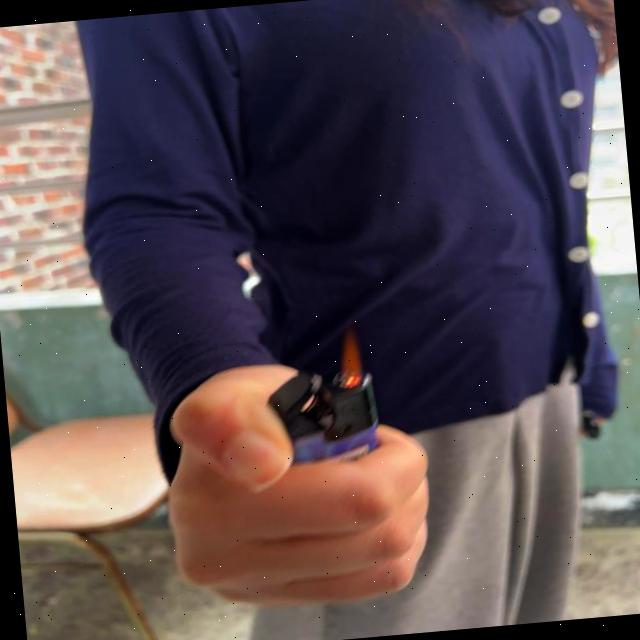fire: (334, 324, 364, 386)
